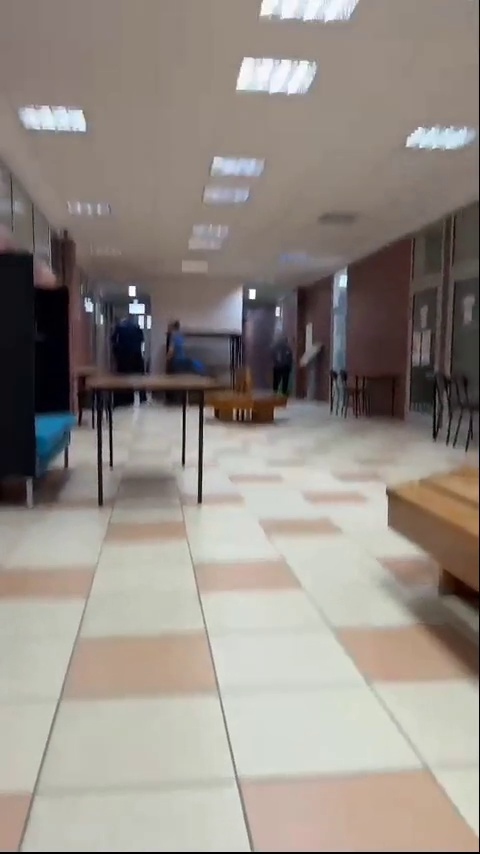no vest: (164, 321, 209, 375), (111, 312, 144, 376), (267, 327, 295, 402)
